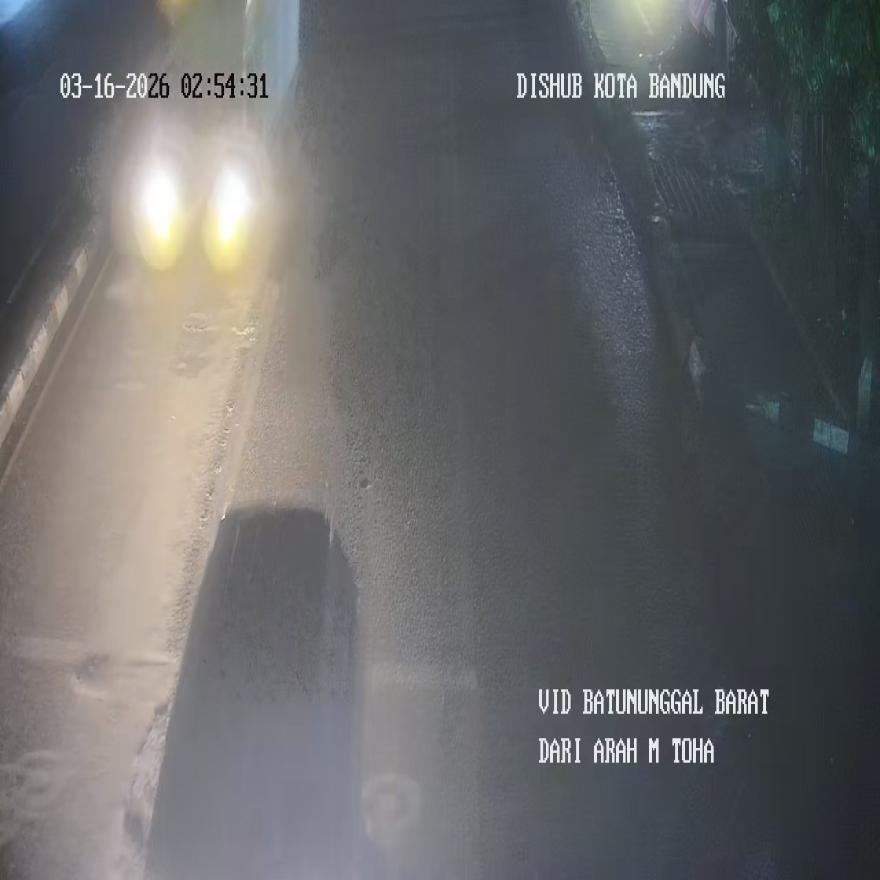Mobil: (128, 536, 370, 855)
Truk ringan: (118, 12, 304, 257)
